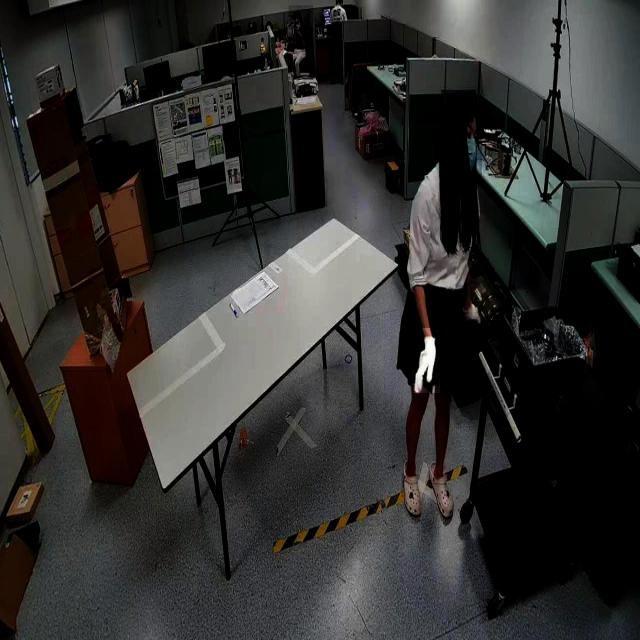face_mask: (462, 108, 482, 182)
hand_glove: (414, 328, 441, 394)
head_nohelmet: (441, 90, 477, 108), (294, 12, 302, 18)
person: (390, 85, 487, 544), (288, 5, 314, 81)
